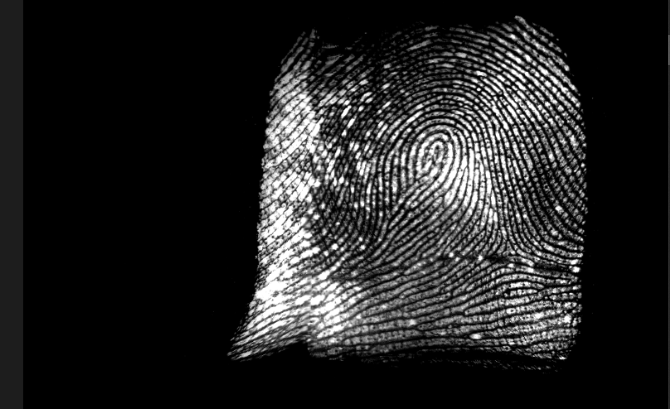nucelo: (424, 132, 450, 184)
verticilo: (495, 236, 521, 262), (323, 264, 341, 283)
